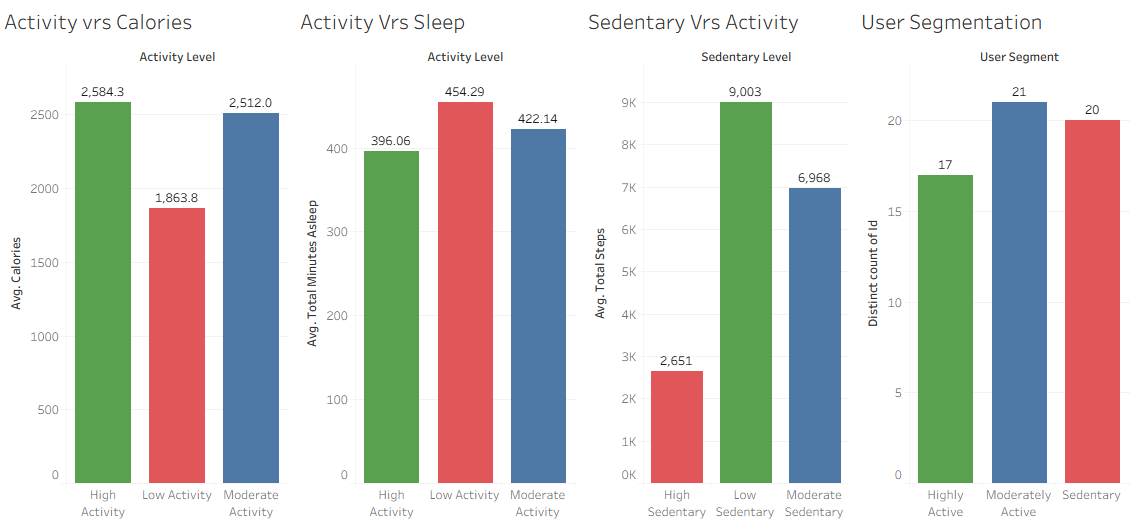

What the dashboard file says about the page in this screenshot:
{"tool":"tableau","page":{"name":"User Behaviour & Segmentation","canvas":[1000,1000],"units":"permille","ordinal":1},"visuals":[{"type":"worksheet","title":"Activity vrs Calories","mark":"Automatic","rows":["Calories"],"cols":["Calculation_1368249889517953026"],"box":[6.9,14.7,256.3,970.6]},{"type":"worksheet","title":"Activity Vrs Sleep","mark":"Automatic","rows":["TotalMinutesAsleep"],"cols":["Calculation_1368249889517953026"],"box":[263.2,14.7,249.8,970.6]},{"type":"worksheet","title":"Sedentary Vrs Activity","mark":"Automatic","rows":["TotalSteps"],"cols":["Calculation_1368249889519874051"],"box":[513,14.7,236.4,970.6]},{"type":"worksheet","title":"User Segmentation","mark":"Automatic","rows":["Id"],"cols":["Calculation_1368249889538318344"],"box":[749.3,14.7,243.7,970.6]}]}

Visuals, with their boxes on the dashboard's canvas, which has no fixed pixel size, in thousandths of its width and height (x1, y1, x2, y2). These are canvas units, not pixel positions in the 1135x530 screenshot, which may show the page scaled, cropped or inside an application window:
"Activity vrs Calories" worksheet: <box>7,15,263,985</box>
"Activity Vrs Sleep" worksheet: <box>263,15,513,985</box>
"Sedentary Vrs Activity" worksheet: <box>513,15,749,985</box>
"User Segmentation" worksheet: <box>749,15,993,985</box>
